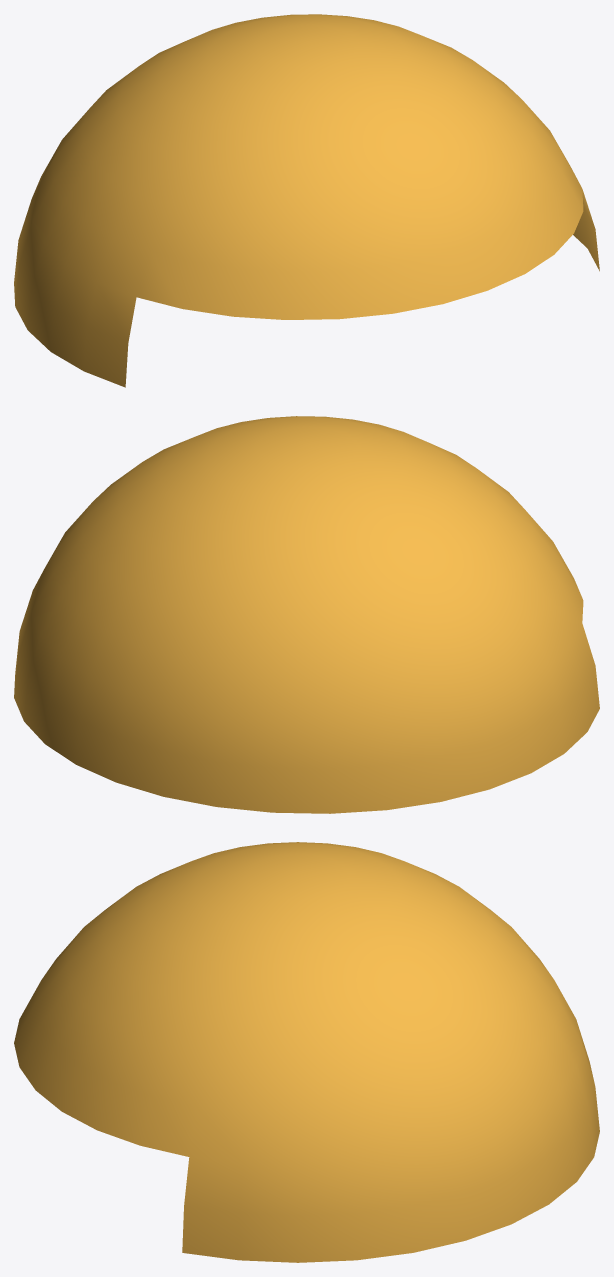
The model's file is hat_helmet.glb.
3 renders of one model, top to bottom at view 1: azimuth 30°, elevation 25°; view 2: azimuth 150°, elevation 25°; view 3: azimuth 270°, elevation 25°, orthographic. The views are drawn at different scales.
Parts seen in each view (by area): view 1: Shell; view 2: Shell; view 3: Shell.
Boxes of the visible parts, <box> form: Shell: <box>14,14,599,387</box>; Shell: <box>14,416,599,813</box>; Shell: <box>14,842,599,1262</box>.
Bounding box in the file's own units: 0.74 × 0.34 × 0.6983.
